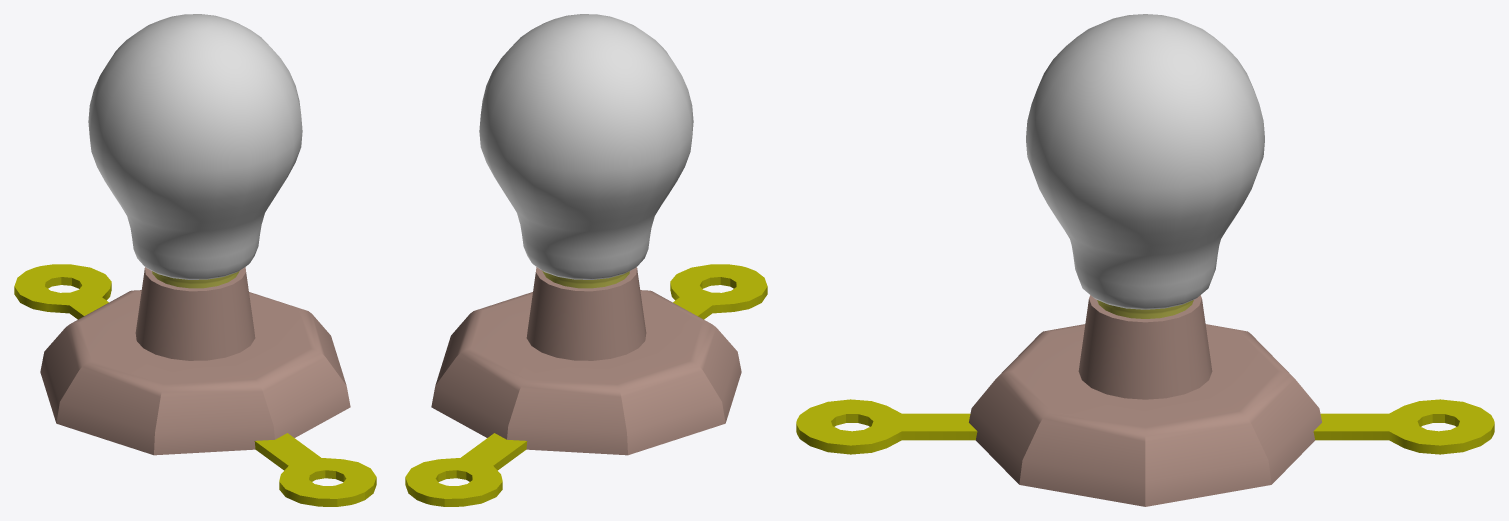
Rendered from lightBulb.glb.
The picture shows the model from 3 angles, left to right: view 1: azimuth 30°, elevation 25°; view 2: azimuth 150°, elevation 25°; view 3: azimuth 270°, elevation 25°; orthographic projection. The views are drawn at different scales.
Visible parts, largest first — view 1: bulb, base, lugLeft, lugRight, polySurface1; view 2: bulb, base, lugRight, lugLeft, polySurface1; view 3: bulb, base, lugLeft, lugRight, polySurface1.
Boxes of the visible parts, x1,y1,x2,y2 form: bulb: (88,14,302,279); base: (40,267,350,455); lugLeft: (254,433,376,506); lugRight: (14,264,111,319); polySurface1: (152,270,239,288); bulb: (479,14,693,279); base: (431,267,741,455); lugRight: (405,433,527,506); lugLeft: (670,264,767,319); polySurface1: (542,270,629,288); bulb: (1026,14,1264,309); base: (969,295,1321,506); lugLeft: (796,399,977,454); lugRight: (1313,399,1494,454); polySurface1: (1097,300,1193,318).
Bounding box in the file's own units: 28.4 × 35.73 × 55.53.
